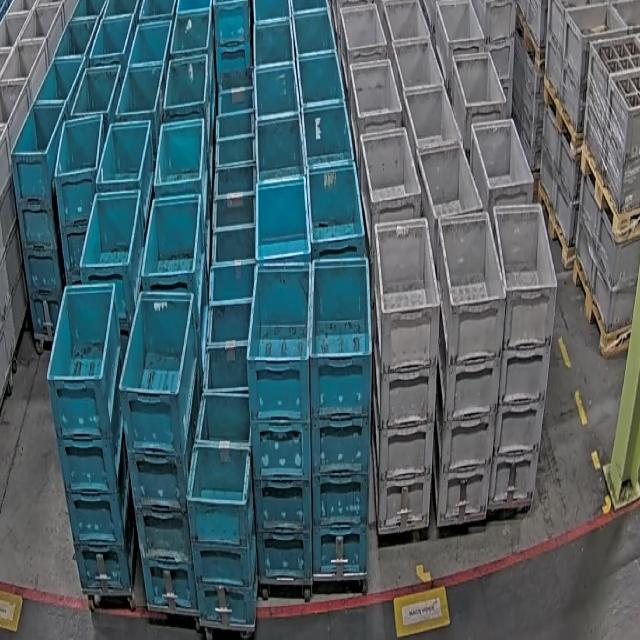4G: (432, 208, 506, 522), (486, 200, 558, 508), (372, 214, 441, 532)
B4: (46, 280, 136, 592), (118, 290, 203, 610), (245, 261, 313, 581), (307, 256, 372, 577), (12, 102, 67, 350), (52, 110, 104, 286)
B8: (185, 390, 258, 626)
